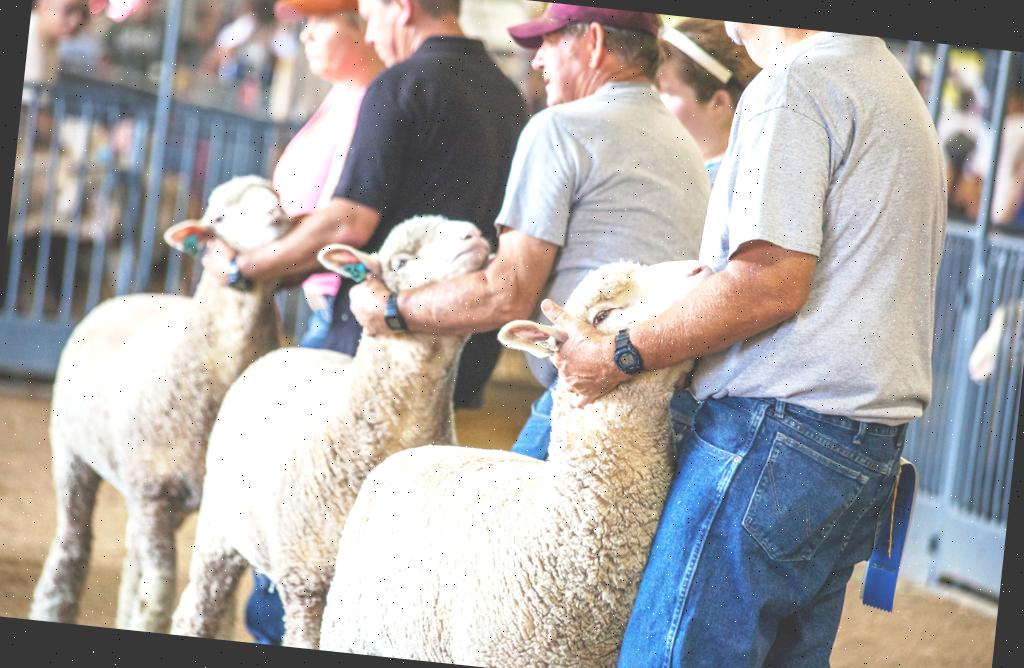Sheep: (309, 226, 736, 668), (170, 189, 483, 660), (26, 154, 300, 642)
